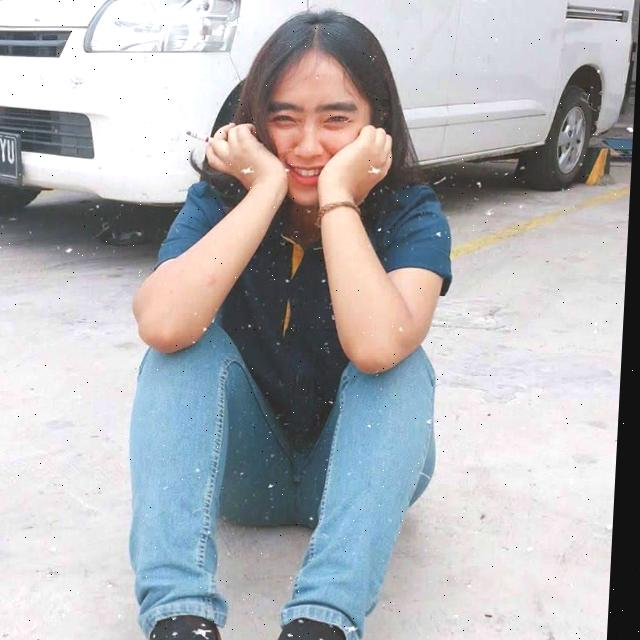cigarette: (187, 130, 216, 144)
